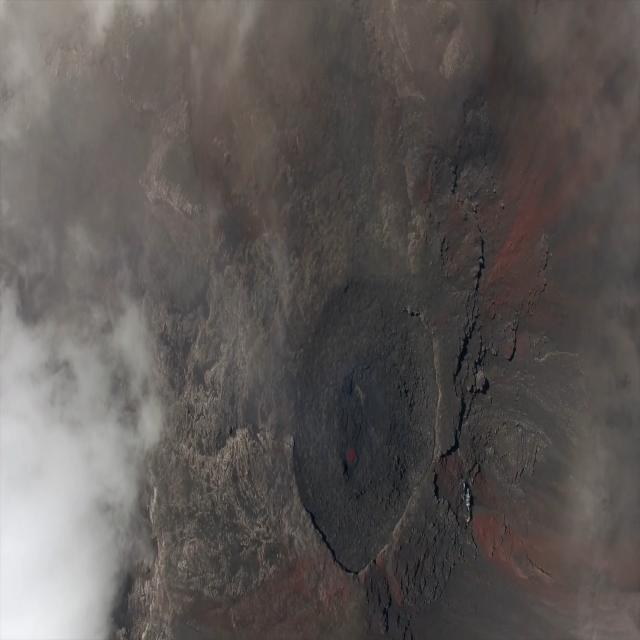Summit: (277, 249, 462, 590)
